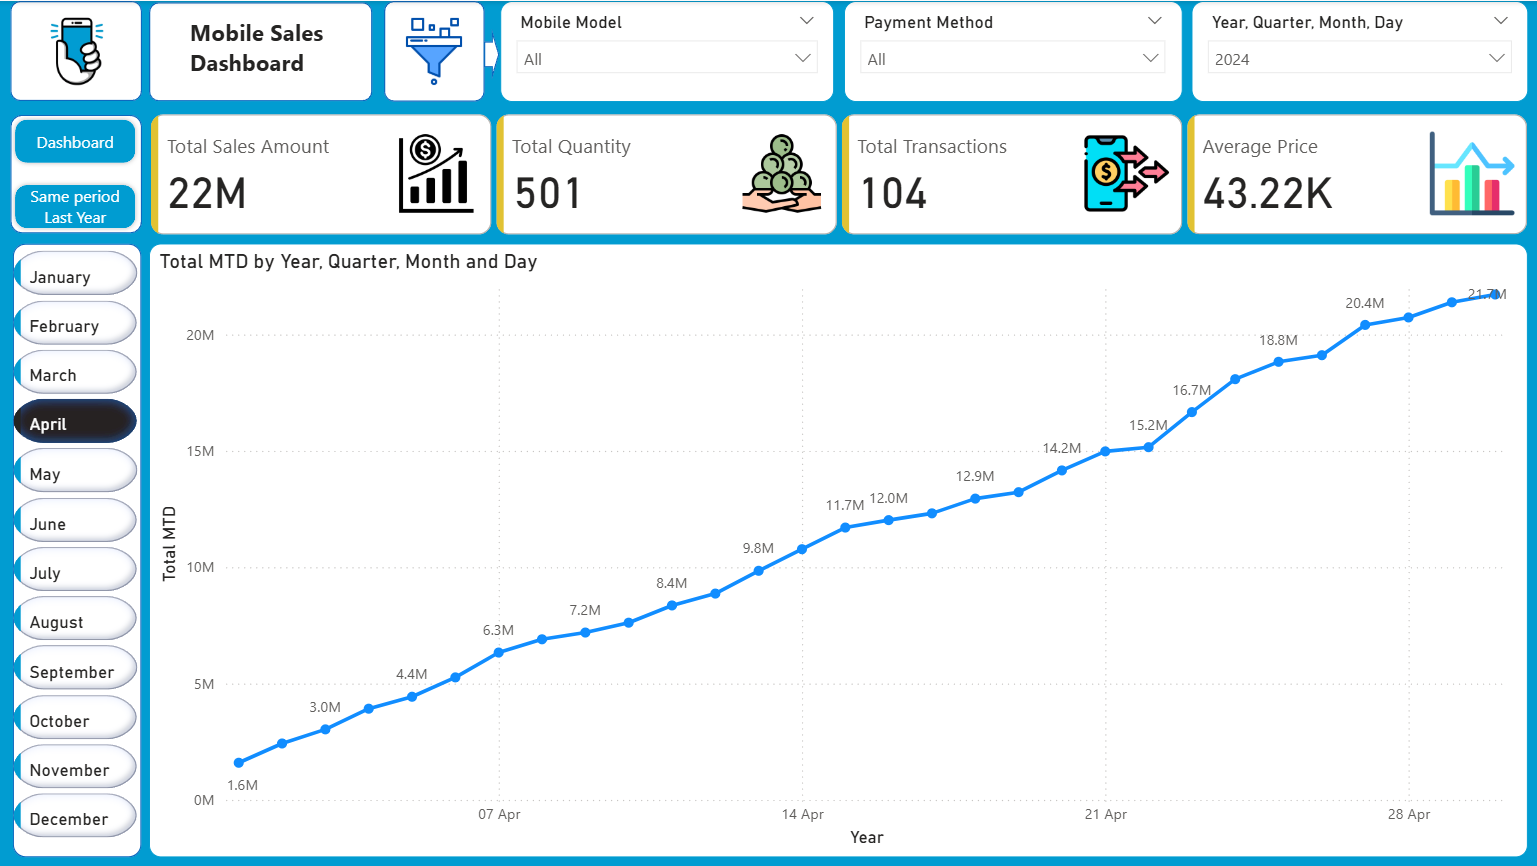

The dashboard page shown, as its layout file describes it:
{"tool":"powerbi","page":{"name":"MTD Report","canvas":[1280,720],"ordinal":1},"visuals":[{"type":"shape","box":[9.7,0,109.9,83.5],"z":0},{"type":"image","box":[10.5,0,108.1,83.7],"z":1000},{"type":"shape","box":[9.7,94.6,109.9,99],"z":2000},{"type":"cardVisual","fields":{"Data":["Mobile Sales Data.Total Sales Amount","Mobile Sales Data.Total Quantity","Mobile Sales Data.Total Transactions","Mobile Sales Data.Average Price"]},"box":[121.6,89.4,1156.7,110.2],"z":3000},{"type":"slicer","fields":{"Values":["Mobile Sales Data.Mobile Model"]},"box":[416.3,0,277.9,83.7],"z":4000},{"type":"slicer","fields":{"Values":["Mobile Sales Data.Payment Method"]},"box":[702.3,0,281.4,83.7],"z":5000},{"type":"slicer","fields":{"Values":["Date.Date.Variation.Date Hierarchy.Year","Date.Date.Variation.Date Hierarchy.Quarter","Date.Date.Variation.Date Hierarchy.Month","Date.Date.Variation.Date Hierarchy.Day"]},"box":[991.9,0,280.2,83.7],"z":6000},{"type":"shape","box":[319.8,0,83.7,83.7],"z":7000},{"type":"image","box":[319.8,8.1,83.7,67.4],"z":8000},{"type":"shape","box":[403.5,23.3,12.8,43],"z":9000},{"type":"shape","box":[124.4,1.2,186,82.6],"z":10000},{"type":"textbox","box":[153.5,8.1,127.9,66.3],"z":11000},{"type":"lineChart","fields":{"Y":["Mobile Sales Data.Total MTD"],"Category":["Date.Date.Variation.Date Hierarchy.Year","Date.Date.Variation.Date Hierarchy.Quarter","Date.Date.Variation.Date Hierarchy.Month","Date.Date.Variation.Date Hierarchy.Day"]},"box":[125.2,201.7,1146.4,510.6],"z":12000},{"type":"shape","box":[11.1,201.7,107.1,510.6],"z":13000},{"type":"advancedSlicerVisual","fields":{"Values":["Date.Date.Variation.Date Hierarchy.Month"]},"box":[7,202.3,114,498.8],"z":14000},{"type":"pageNavigator","box":[9.7,94.6,108.5,98.8],"z":14001}]}

Visuals, with their boxes in screenshot pixels (x1, y1, x2, y2), scaled from the page's 1280x720 canvas onto the 1537x866 screenshot:
shape: x1=12 y1=0 x2=144 y2=100
image: x1=13 y1=0 x2=142 y2=101
shape: x1=12 y1=114 x2=144 y2=233
cardVisual - Mobile Sales Data.Total Sales Amount x Mobile Sales Data.Total Quantity: x1=146 y1=108 x2=1535 y2=240
slicer - Mobile Sales Data.Mobile Model: x1=500 y1=0 x2=834 y2=101
slicer - Mobile Sales Data.Payment Method: x1=843 y1=0 x2=1181 y2=101
slicer - Date.Date.Variation.Date Hierarchy.Year x Date.Date.Variation.Date Hierarchy.Quarter: x1=1191 y1=0 x2=1528 y2=101
shape: x1=384 y1=0 x2=485 y2=101
image: x1=384 y1=10 x2=485 y2=91
shape: x1=485 y1=28 x2=500 y2=80
shape: x1=149 y1=1 x2=373 y2=101
textbox: x1=184 y1=10 x2=338 y2=89
lineChart - Mobile Sales Data.Total MTD x Date.Date.Variation.Date Hierarchy.Year: x1=150 y1=243 x2=1527 y2=857
shape: x1=13 y1=243 x2=142 y2=857
advancedSlicerVisual - Date.Date.Variation.Date Hierarchy.Month: x1=8 y1=243 x2=145 y2=843
pageNavigator: x1=12 y1=114 x2=142 y2=233
